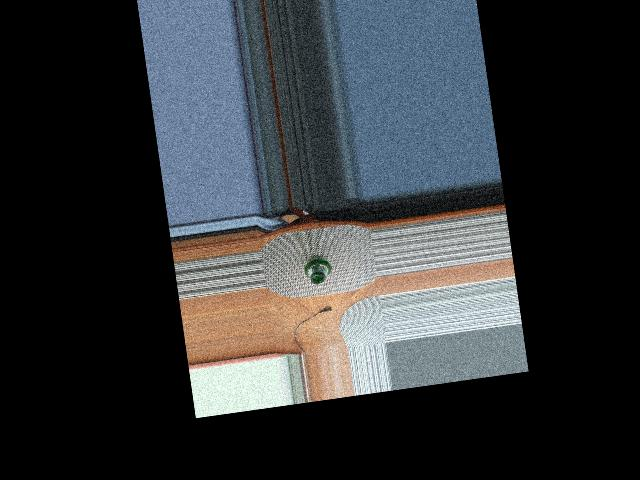beer: (304, 254, 332, 285)
